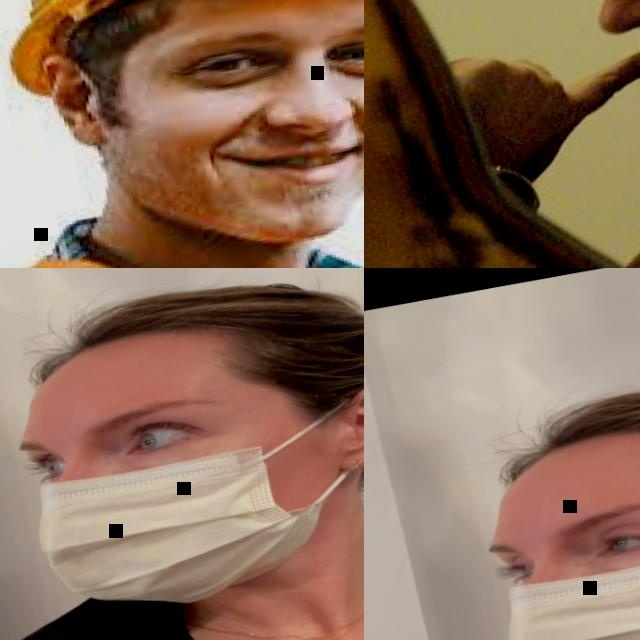Hardhat: (0, 0, 364, 110)
Mask: (15, 385, 364, 631), (490, 492, 640, 640)
NO-Hardhat: (14, 268, 364, 422), (473, 346, 640, 520)
NO-Mask: (68, 50, 364, 268)
NO-Safety Vest: (0, 525, 364, 640)
Person: (0, 268, 364, 640), (0, 0, 364, 268), (364, 321, 640, 640), (380, 0, 640, 268)
Safety Vest: (0, 165, 364, 268)
